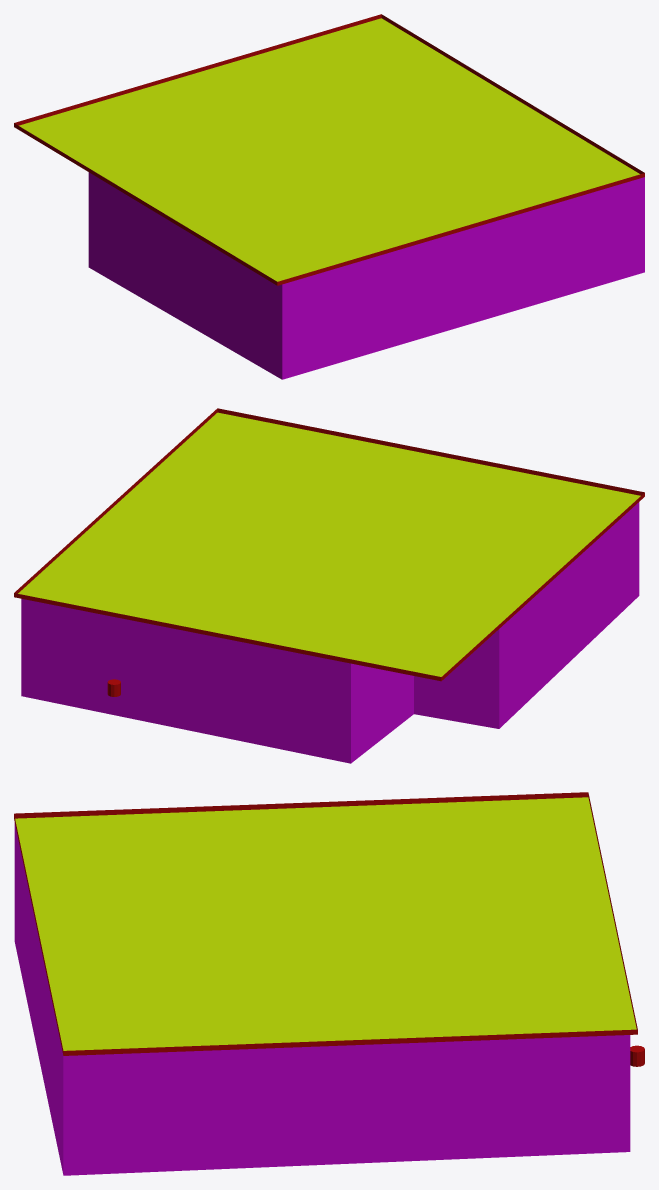
Rendered from atelier_moderne.glb.
The picture shows the model from 3 angles, top to bottom: view 1: azimuth 30°, elevation 25°; view 2: azimuth 150°, elevation 25°; view 3: azimuth 270°, elevation 25°; orthographic projection. The views are drawn at different scales.
Visible parts, largest first — view 1: atelier_moderne; view 2: atelier_moderne; view 3: atelier_moderne.
Boxes of the visible parts, left/top/right/bottom form: atelier_moderne: left=14, top=14, right=644, bottom=379; atelier_moderne: left=14, top=408, right=644, bottom=763; atelier_moderne: left=14, top=792, right=644, bottom=1175.
Size of the model in its own units: 38.18 by 8.59 by 39.34.
